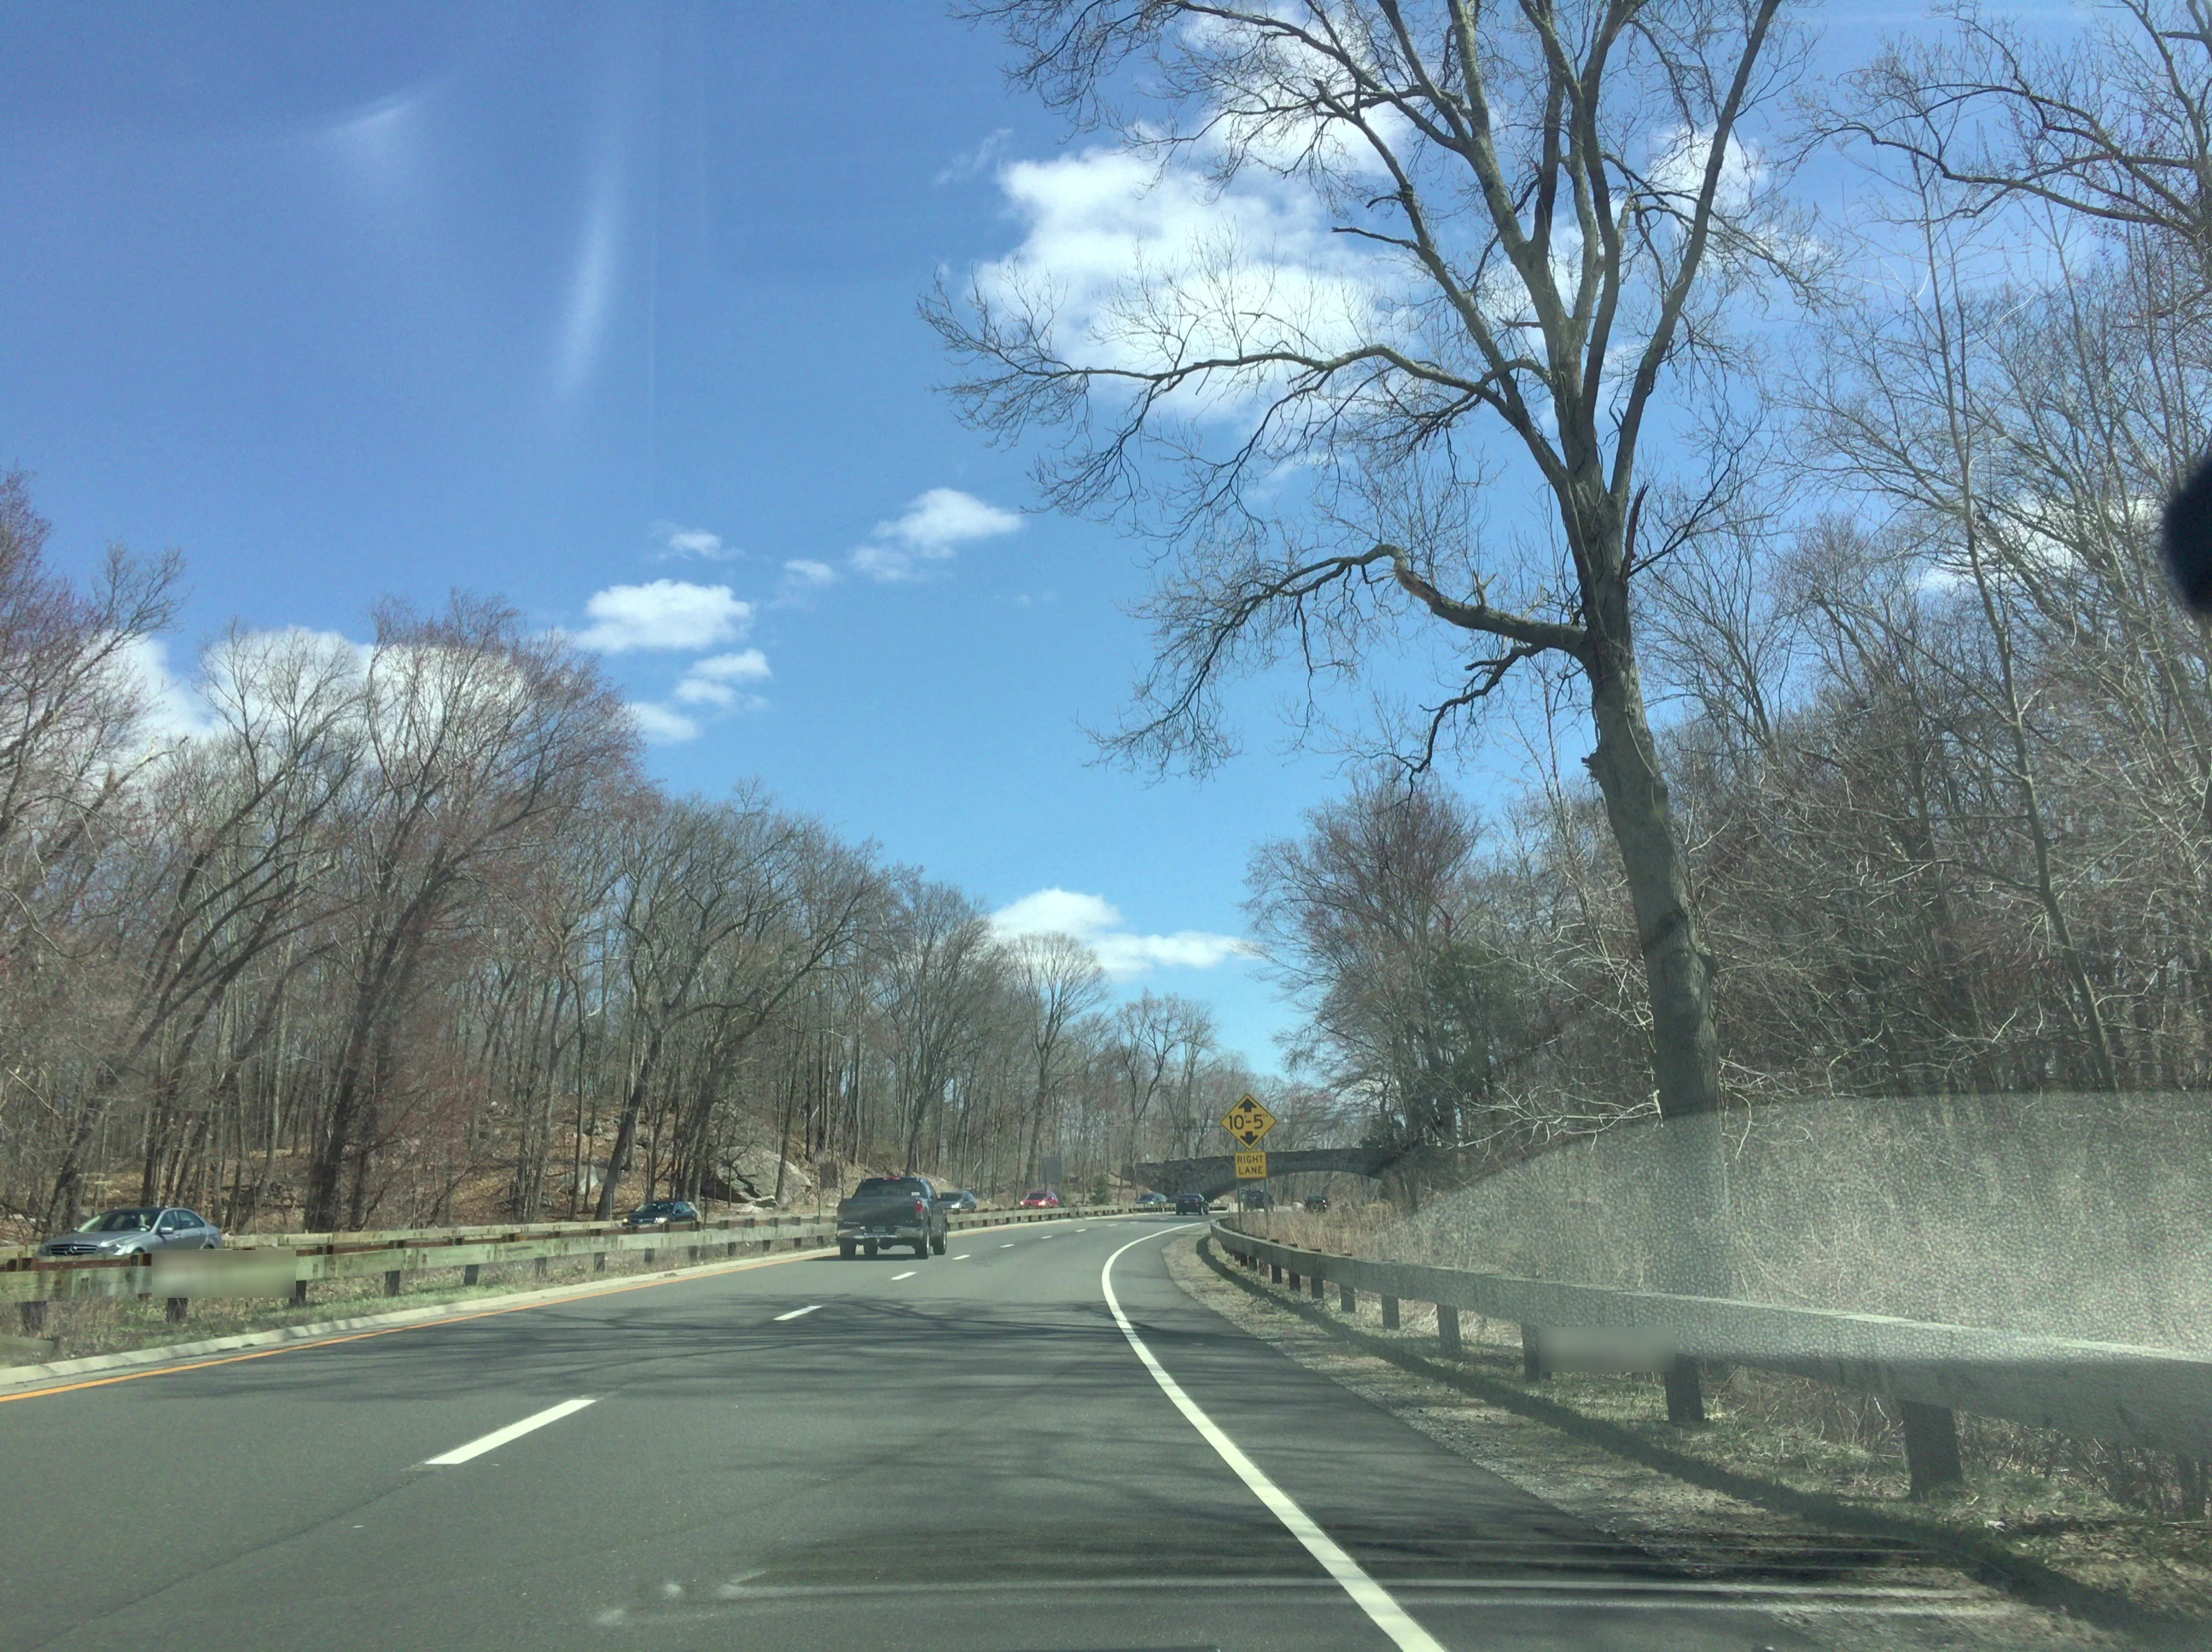low-clearance-sign: (1220, 1091, 1277, 1150)
